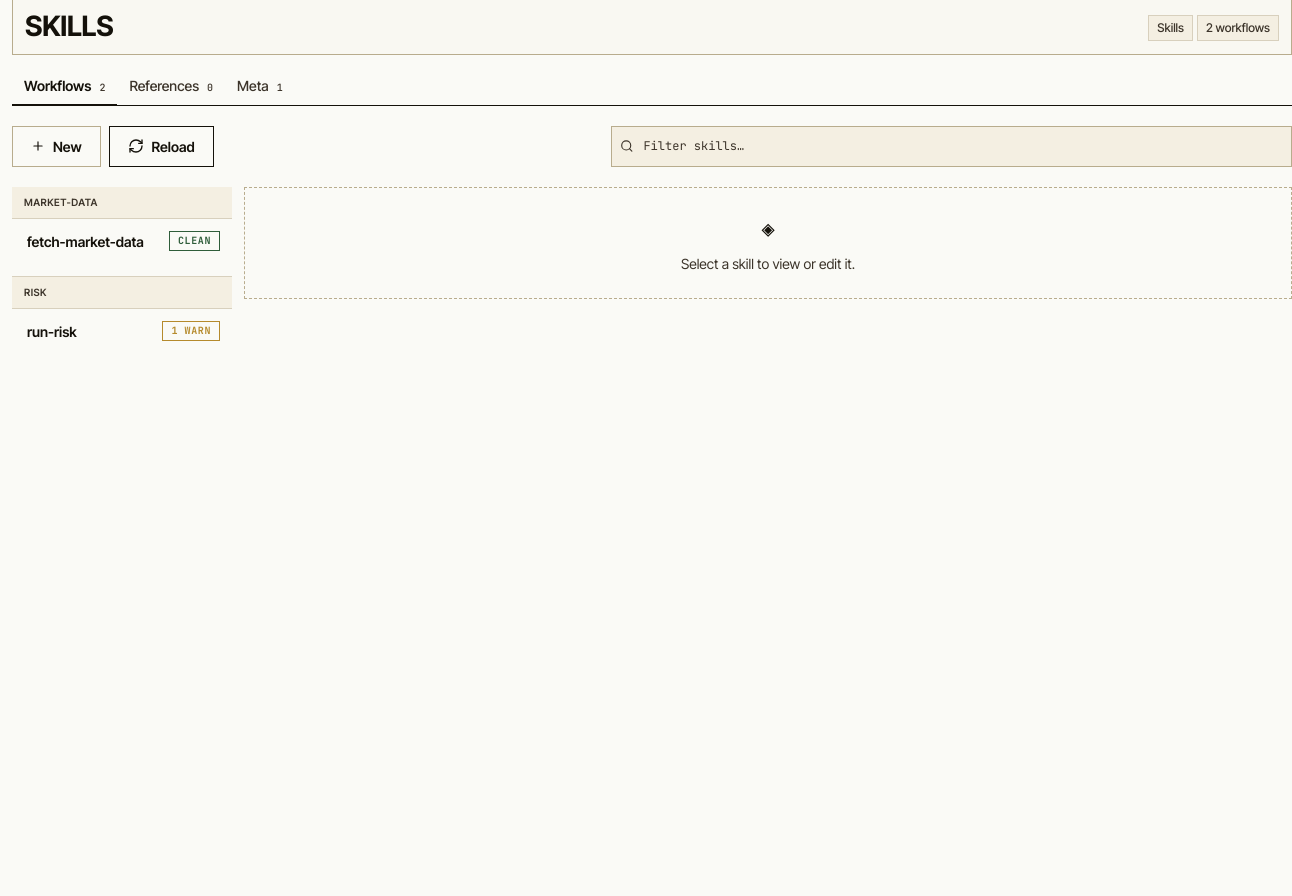
Skills › opens a blank create form from the New button
This screenshot has width=1292, height=896.
What coordinates should you click on to do the following:
click the button "New"
I would click on:
 (56, 146)
Its box is 12,126 -> 101,167.
(page scrolled)
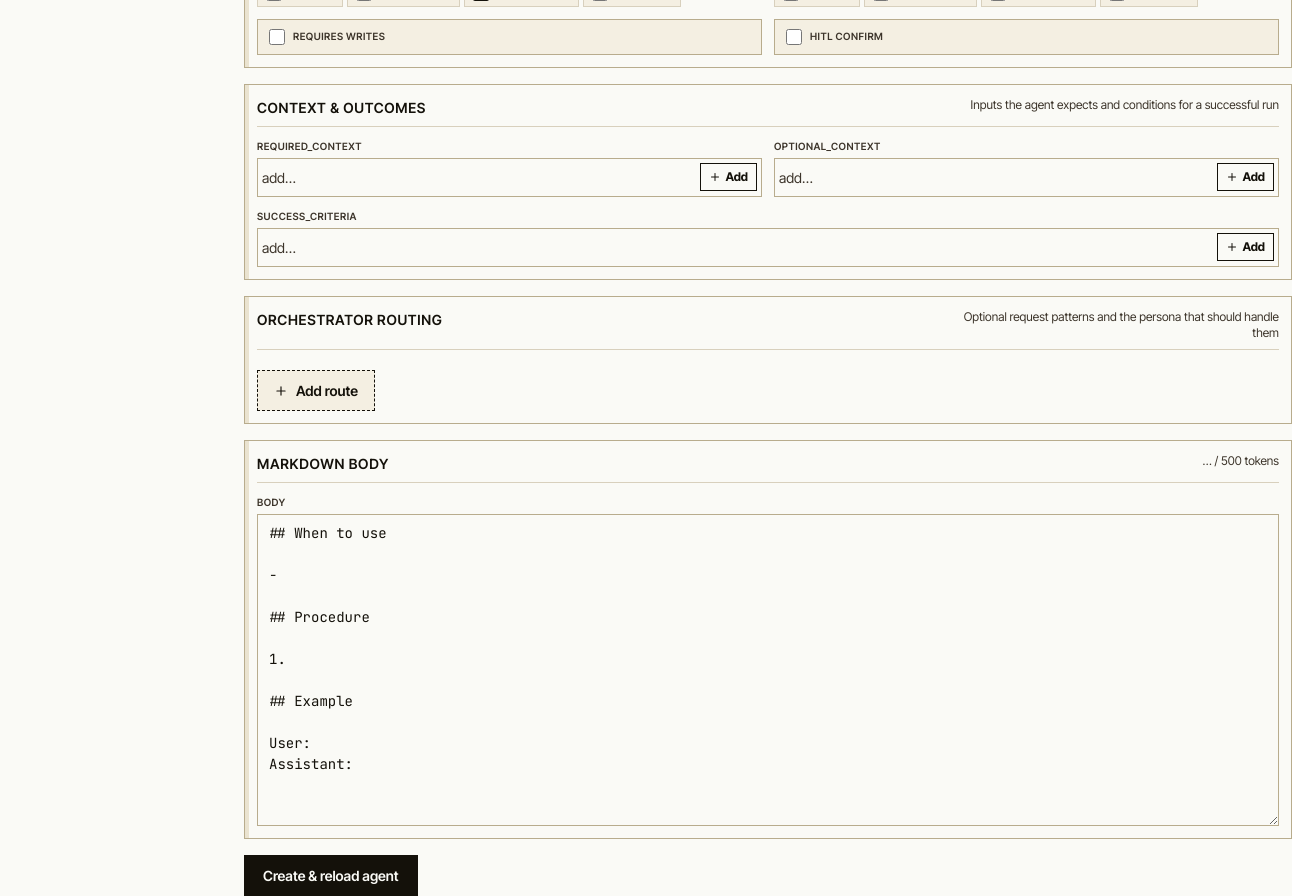
Expected: the button "Create & reload agent" is shown, 244,855 -> 418,895
